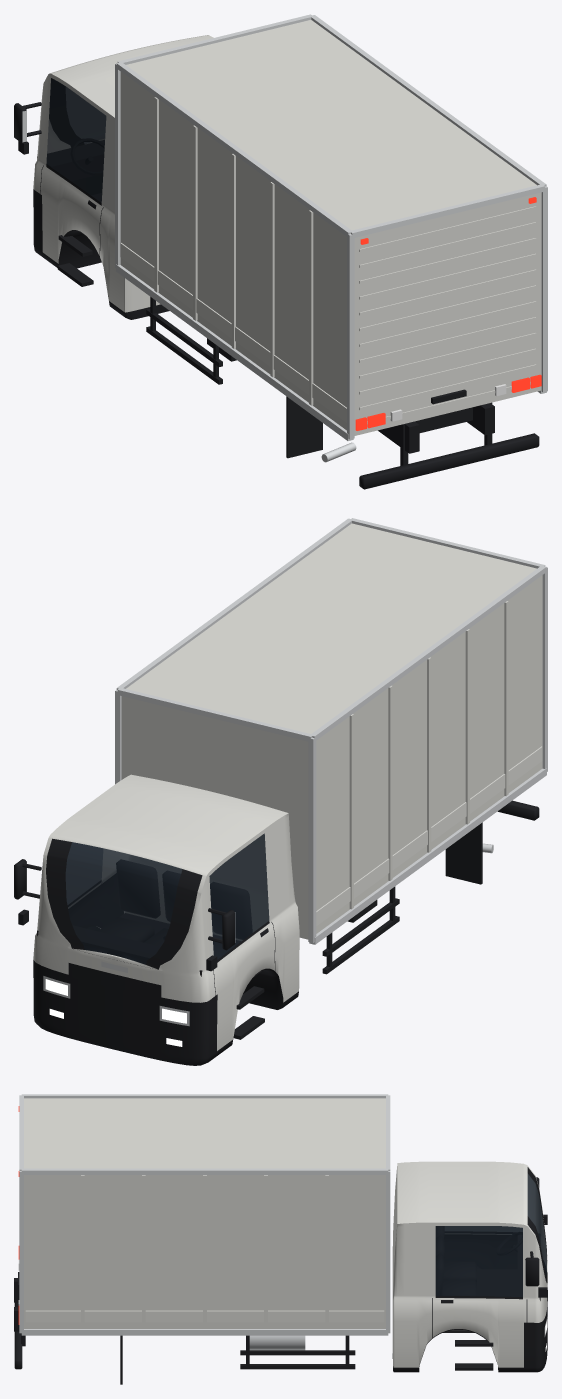
Rendered from truck_body.glb.
3 renders of one model, top to bottom at view 1: azimuth 30°, elevation 25°; view 2: azimuth 150°, elevation 25°; view 3: azimuth 270°, elevation 25°, orthographic. The views are drawn at different scales.
Parts seen in each view (by area): view 1: TruckBody, RearBumper, FrontBumper; view 2: TruckBody, FrontBumper; view 3: TruckBody, FrontBumper, RearBumper.
Part boxes in pixels (x1=…): TruckBody: x1=14, y1=14, x2=547, y2=462; RearBumper: x1=359, y1=402, x2=539, y2=489; FrontBumper: x1=33, y1=175, x2=102, y2=257; TruckBody: x1=14, y1=518, x2=547, y2=1056; FrontBumper: x1=33, y1=960, x2=217, y2=1065; TruckBody: x1=14, y1=1094, x2=547, y2=1384; FrontBumper: x1=524, y1=1261, x2=547, y2=1372; RearBumper: x1=14, y1=1302, x2=25, y2=1369.
Size of the model in its own units: 2.55 by 3.09 by 6.96.
